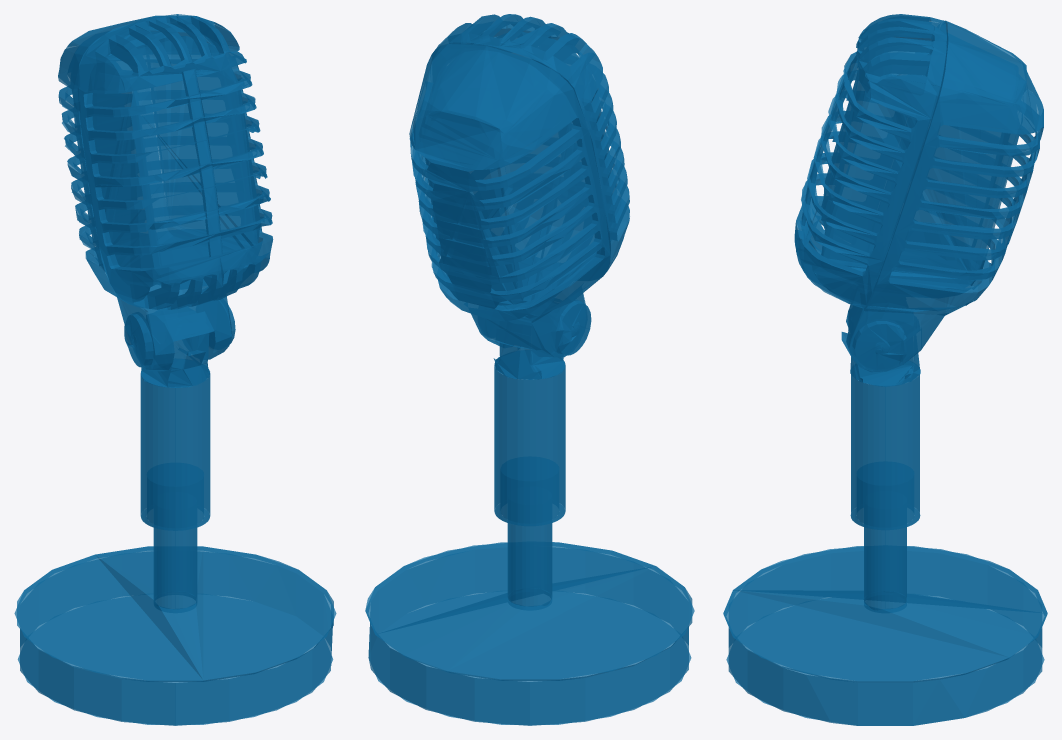
File: Microphone.FBX
3 views of the same model, side by side, from view 1: azimuth 30°, elevation 25°; view 2: azimuth 150°, elevation 25°; view 3: azimuth 270°, elevation 25° (orthographic). The views are drawn at different scales.
Parts seen in each view (by area): view 1: microphone; view 2: microphone; view 3: microphone.
Part boxes in pixels (left/top/right/bottom): microphone: left=14, top=14, right=336, bottom=725; microphone: left=365, top=14, right=694, bottom=725; microphone: left=723, top=14, right=1047, bottom=725.
Bounding box in the file's own units: 9.25 × 19.99 × 9.32.
